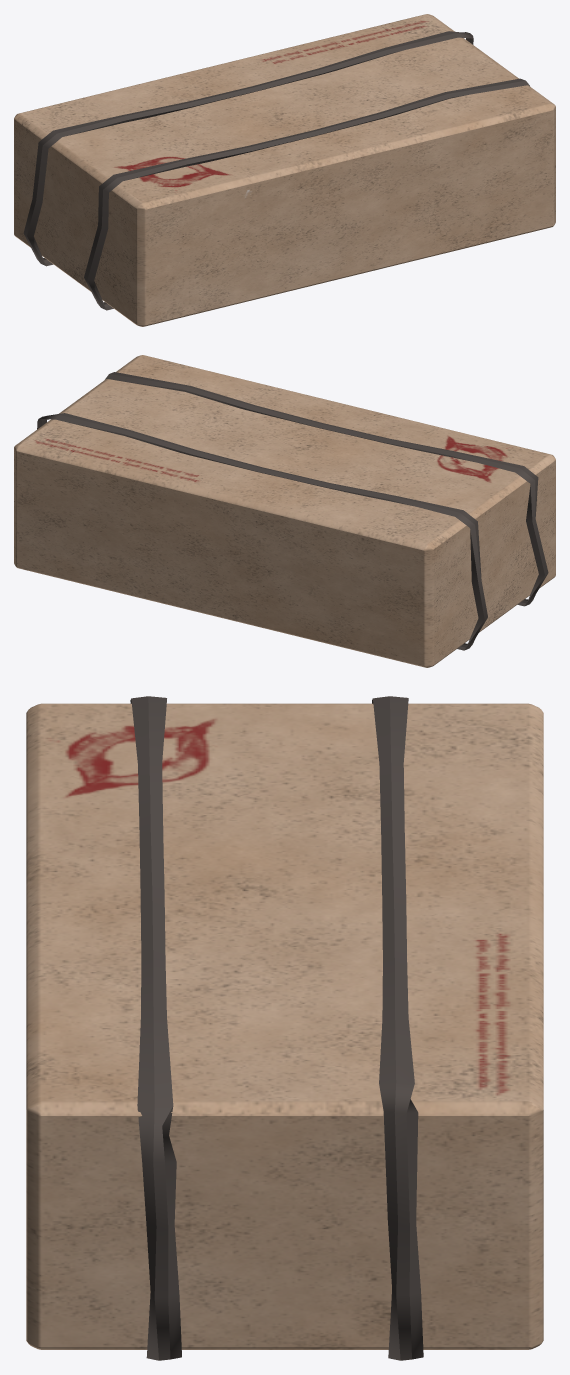
Rendered from package.fbx.
3 views of the same model, one above another, from view 1: azimuth 30°, elevation 25°; view 2: azimuth 150°, elevation 25°; view 3: azimuth 270°, elevation 25° (orthographic). The views are drawn at different scales.
Visible parts, largest first — view 1: package; view 2: package; view 3: package.
Part boxes in pixels (x1,y1,x2,y2): package: (14, 14, 555, 326); package: (14, 355, 555, 667); package: (26, 696, 543, 1360).
Size of the model in its own units: 16.15 by 4.65 by 8.
